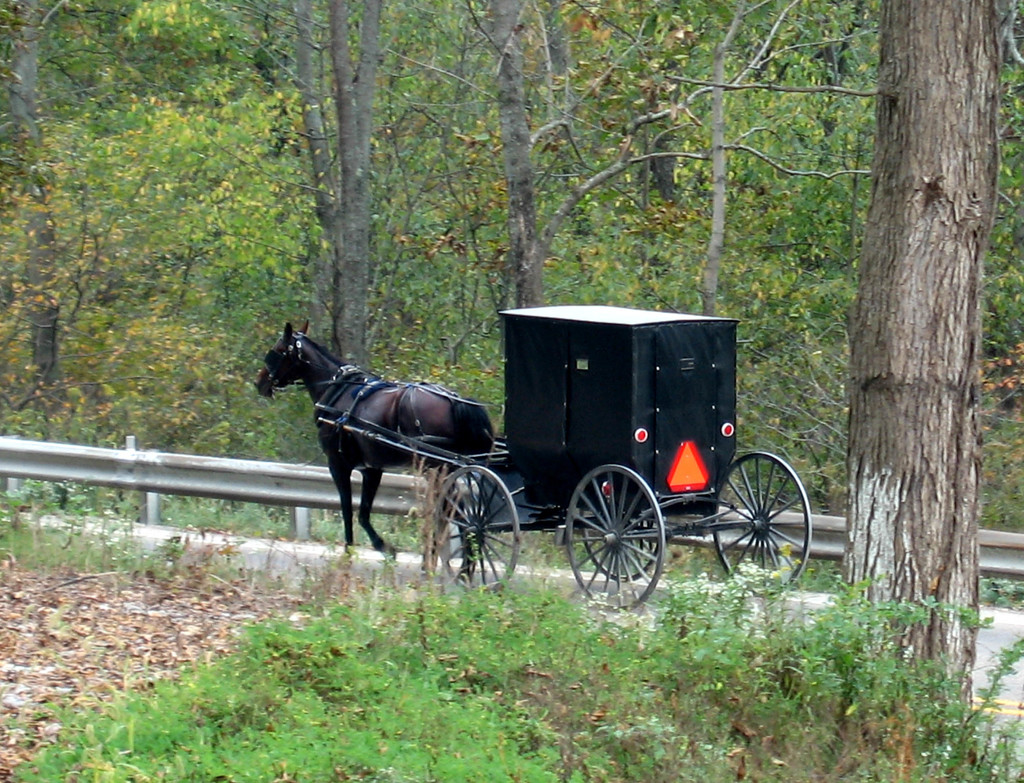horse: (252, 318, 498, 586)
